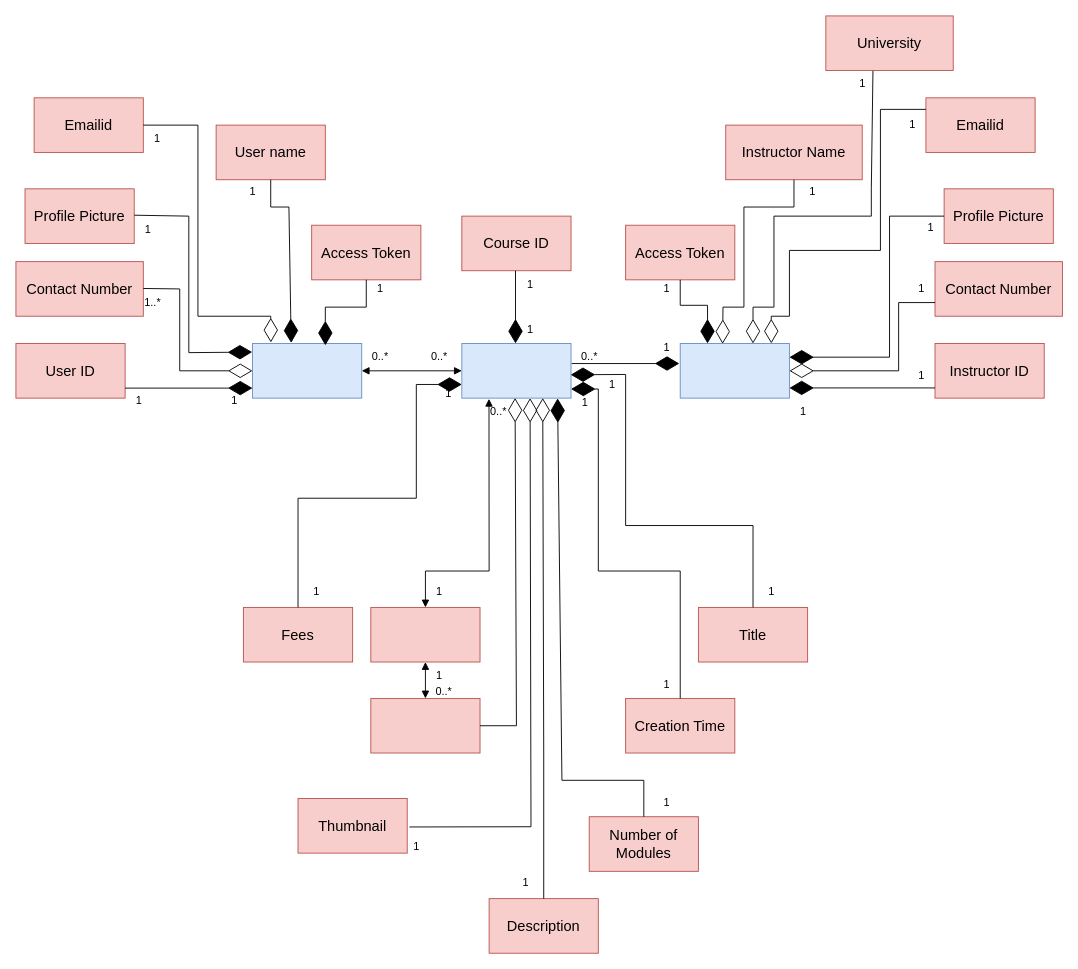
This 1078x969 diagram has some shape labels left out. The shapes that lost their labels are listed below. From the top down, each one's centre as x and y in pixels, then its label:
At point (307, 370): "User".
At point (516, 370): "Course".
At point (734, 370): "Instructor".
At point (425, 634): "Category".
At point (425, 725): "Sub Category".
